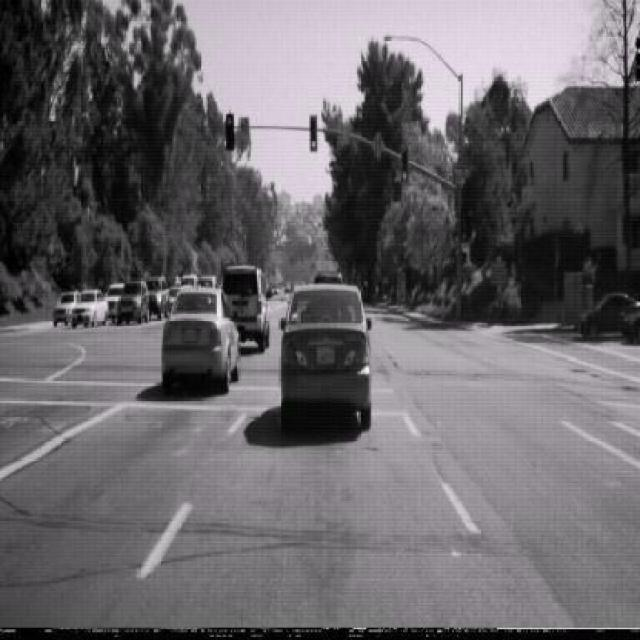laneEnds: (371, 130, 386, 164)
